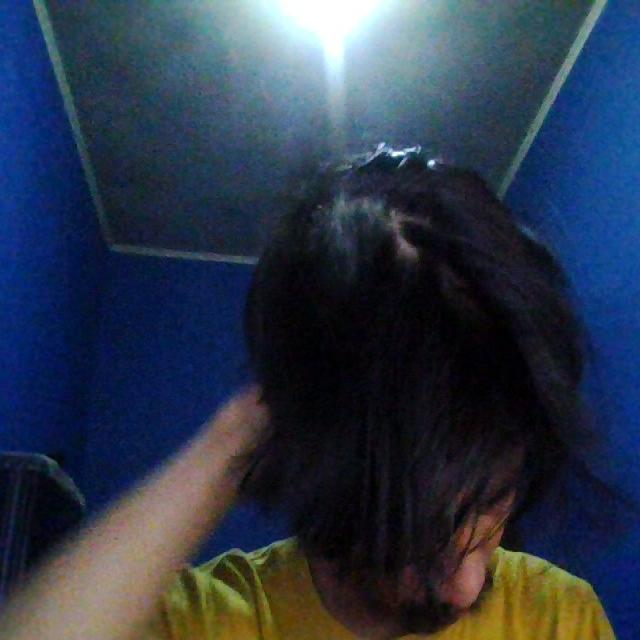Melihat Kebawah: (247, 120, 608, 633)
